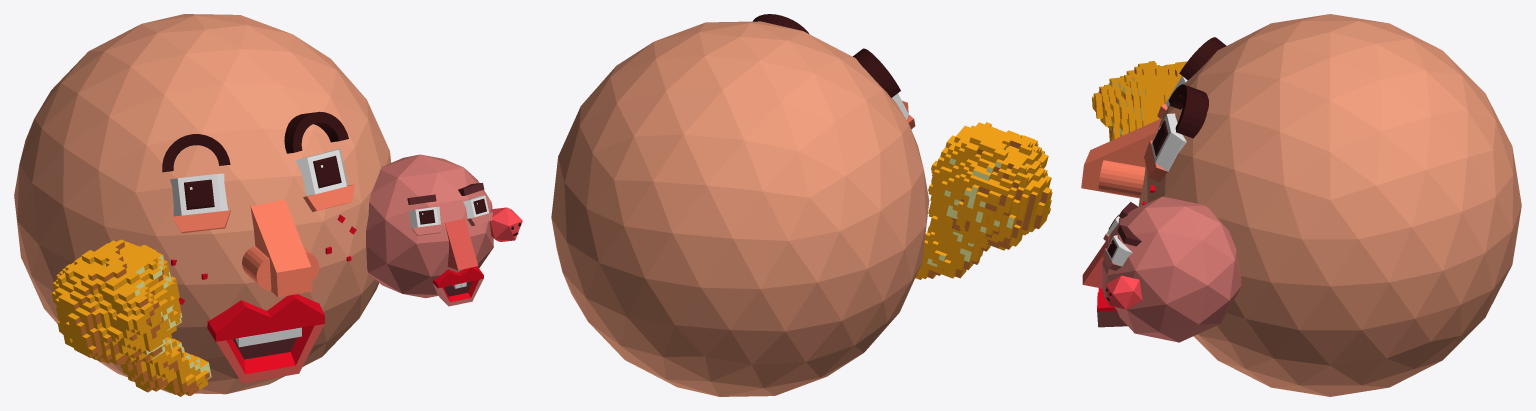
File: Beans.fbx
3 renders of one model, left to right at view 1: azimuth 30°, elevation 25°; view 2: azimuth 150°, elevation 25°; view 3: azimuth 270°, elevation 25°, orthographic.
Visible parts, largest first — view 1: Icosphere.008_Icosphere.004, Icosphere.008_Icosphere.002, Icosphere.008_Icosphere.011, Icosphere.008_Icosphere.005, Icosphere.008_Icosphere.006, Icosphere.008_Icosphere.009, Icosphere.008_Icosphere.008, Icosphere.008_Icosphere.003, Icosphere.008_Icosphere.010, Icosphere.008_Icosphere.017, Icosphere.008_Icosphere.007, Icosphere.008_Icosphere.001; view 2: Icosphere.008_Icosphere.004, Icosphere.008_Icosphere.002, Icosphere.008_Icosphere.003, Icosphere.008_Icosphere.009, Icosphere.008_Icosphere.001; view 3: Icosphere.008_Icosphere.004, Icosphere.008_Icosphere.011, Icosphere.008_Icosphere.002, Icosphere.008_Icosphere.005, Icosphere.008_Icosphere.009, Icosphere.008_Icosphere.008, Icosphere.008_Icosphere.007, Icosphere.008_Icosphere.010, Icosphere.008_Icosphere.017.
Boxes of the visible parts, x1=… form: Icosphere.008_Icosphere.004: x1=14, y1=14, x2=391, y2=394; Icosphere.008_Icosphere.002: x1=52, y1=239, x2=208, y2=396; Icosphere.008_Icosphere.011: x1=366, y1=154, x2=493, y2=306; Icosphere.008_Icosphere.005: x1=172, y1=184, x2=354, y2=297; Icosphere.008_Icosphere.006: x1=171, y1=214, x2=483, y2=374; Icosphere.008_Icosphere.009: x1=162, y1=111, x2=521, y2=235; Icosphere.008_Icosphere.008: x1=170, y1=148, x2=489, y2=347; Icosphere.008_Icosphere.003: x1=74, y1=242, x2=210, y2=396; Icosphere.008_Icosphere.010: x1=216, y1=218, x2=478, y2=383; Icosphere.008_Icosphere.017: x1=233, y1=183, x2=484, y2=359; Icosphere.008_Icosphere.007: x1=490, y1=207, x2=522, y2=241; Icosphere.008_Icosphere.001: x1=135, y1=255, x2=211, y2=379; Icosphere.008_Icosphere.004: x1=551, y1=21, x2=929, y2=396; Icosphere.008_Icosphere.002: x1=915, y1=122, x2=1052, y2=279; Icosphere.008_Icosphere.003: x1=927, y1=140, x2=1047, y2=278; Icosphere.008_Icosphere.009: x1=752, y1=14, x2=900, y2=97; Icosphere.008_Icosphere.001: x1=927, y1=158, x2=1014, y2=266; Icosphere.008_Icosphere.004: x1=1138, y1=14, x2=1521, y2=396; Icosphere.008_Icosphere.011: x1=1097, y1=196, x2=1241, y2=342; Icosphere.008_Icosphere.002: x1=1092, y1=61, x2=1186, y2=141; Icosphere.008_Icosphere.005: x1=1081, y1=103, x2=1167, y2=198; Icosphere.008_Icosphere.009: x1=1105, y1=37, x2=1226, y2=301; Icosphere.008_Icosphere.008: x1=1106, y1=76, x2=1187, y2=266; Icosphere.008_Icosphere.007: x1=1106, y1=275, x2=1142, y2=309; Icosphere.008_Icosphere.010: x1=1082, y1=237, x2=1109, y2=288; Icosphere.008_Icosphere.017: x1=1117, y1=202, x2=1141, y2=246.
Size of the model in its own units: 287 by 220 by 253.
